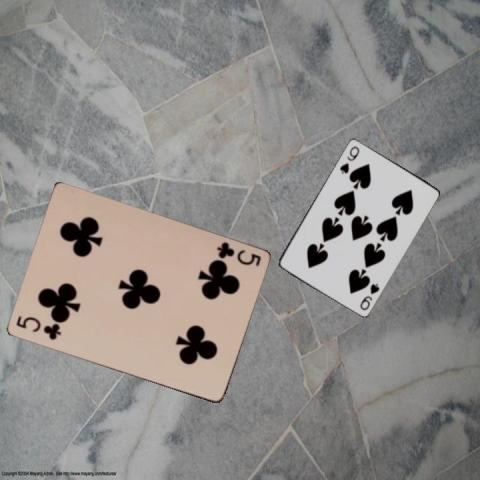5c: (13, 313, 62, 342), (213, 239, 262, 268)
9s: (336, 143, 360, 175), (356, 280, 380, 311)
